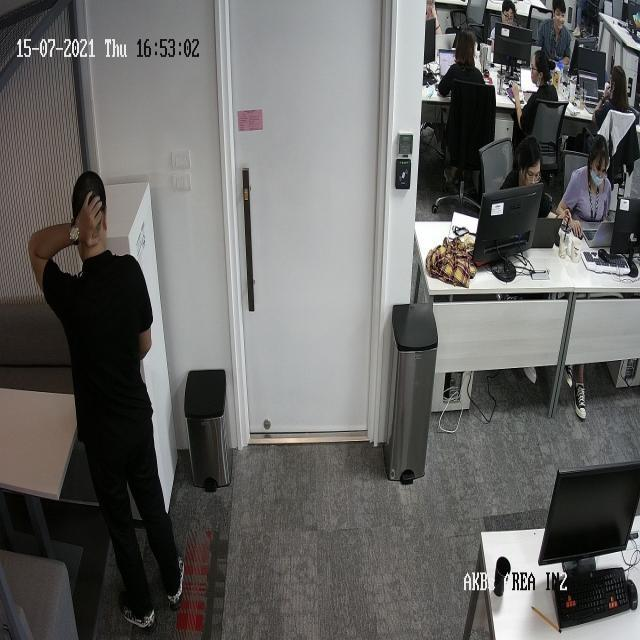hairnet: (591, 164, 611, 194)
